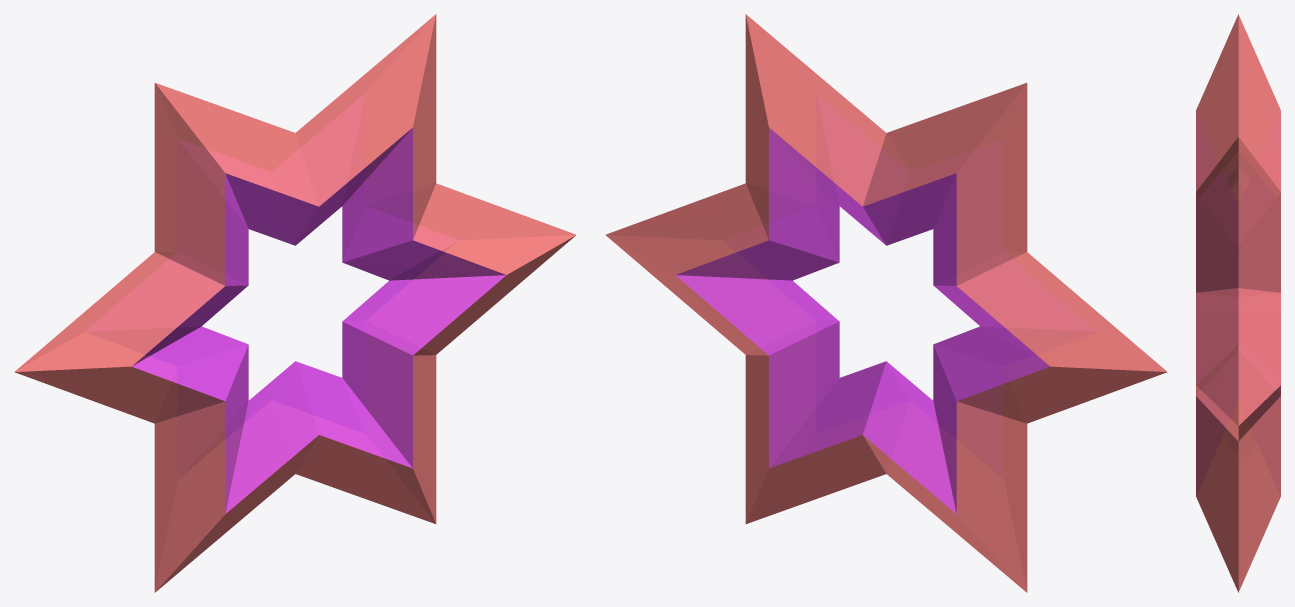
File: Regular6TetragonalStarToroid.obj
The picture shows the model from 3 angles, left to right: view 1: azimuth 30°, elevation 25°; view 2: azimuth 150°, elevation 25°; view 3: azimuth 270°, elevation 25°; orthographic projection. The views are drawn at different scales.
Bounding box in the file's own units: 4.8 × 4.16 × 0.7.
